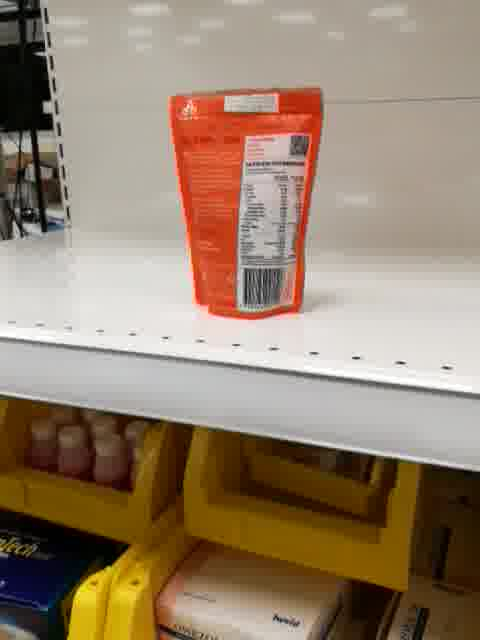whitechia: (166, 82, 325, 323)
